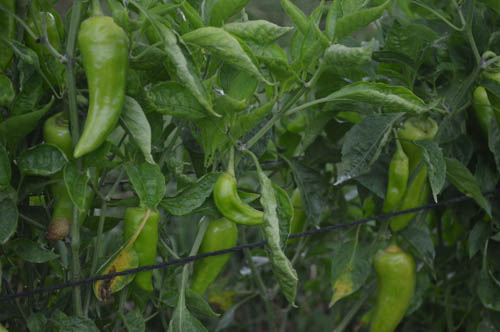ChiliPepper: (70, 18, 128, 160), (398, 121, 440, 228), (190, 219, 237, 299), (369, 250, 414, 331), (36, 118, 77, 206), (119, 208, 161, 289), (214, 172, 269, 225), (380, 159, 406, 214)
